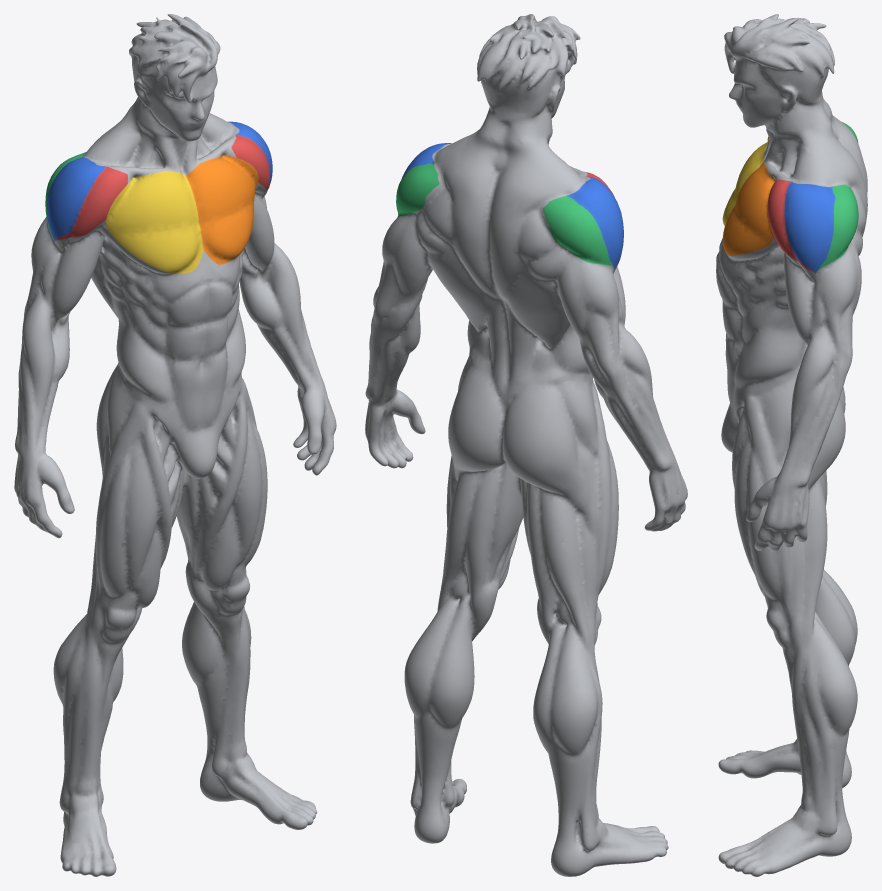
File: meshy-eight-zones-control.glb
3 renders of one model, left to right at view 1: azimuth 30°, elevation 25°; view 2: azimuth 150°, elevation 25°; view 3: azimuth 270°, elevation 25°, orthographic.
Parts seen in each view (by area): view 1: meshy.anatomical_form.marble_titan.local_neck_finish; view 2: meshy.anatomical_form.marble_titan.local_neck_finish; view 3: meshy.anatomical_form.marble_titan.local_neck_finish.
Boxes of the visible parts, box(x1,y1,x2,y2) form: meshy.anatomical_form.marble_titan.local_neck_finish: box(14, 14, 336, 876); meshy.anatomical_form.marble_titan.local_neck_finish: box(365, 14, 687, 876); meshy.anatomical_form.marble_titan.local_neck_finish: box(716, 14, 867, 876).
Bounding box in the file's own units: 0.7588 × 1.9 × 0.3255.
1 material, 1 textured.
